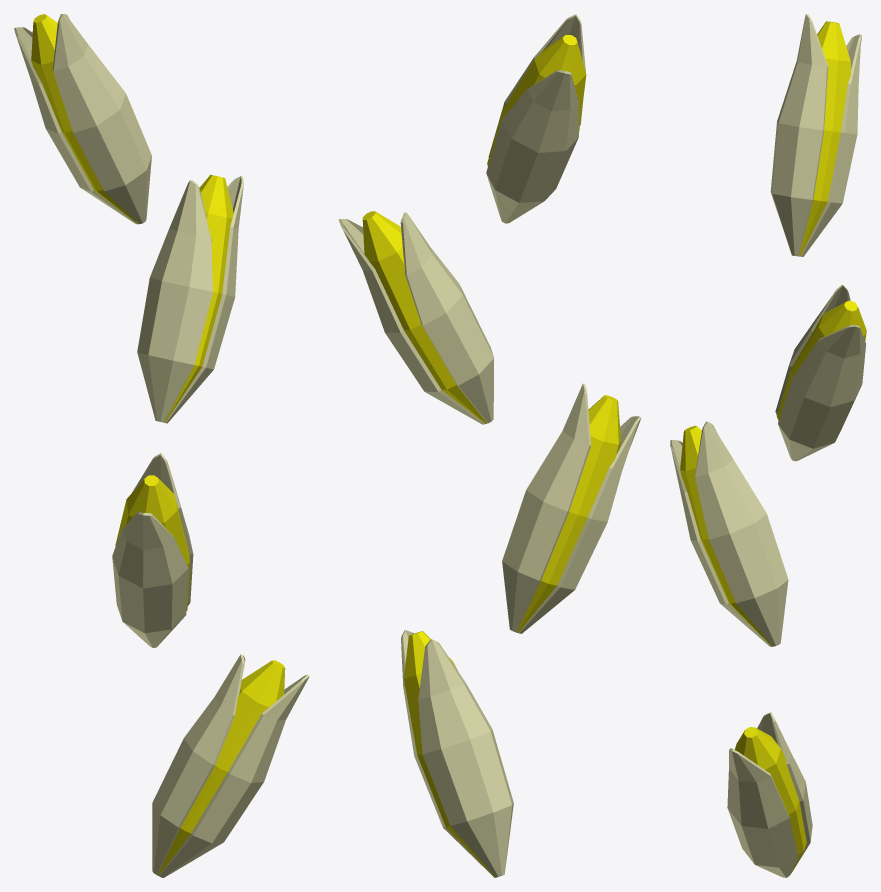
The model's file is corn_harvest_low.fbx.
3 renders of one model, left to right at view 1: azimuth 30°, elevation 25°; view 2: azimuth 150°, elevation 25°; view 3: azimuth 270°, elevation 25°, orthographic. The views are drawn at different scales.
Parts seen in each view (by area): view 1: Circle.001; view 2: Circle.001; view 3: Circle.001.
Part boxes in pixels (x1,y1,x2,y2): Circle.001: [14, 14, 309, 877]; Circle.001: [338, 14, 641, 877]; Circle.001: [670, 14, 866, 877].
Size of the model in its own units: 20.92 by 76.74 by 16.61.
